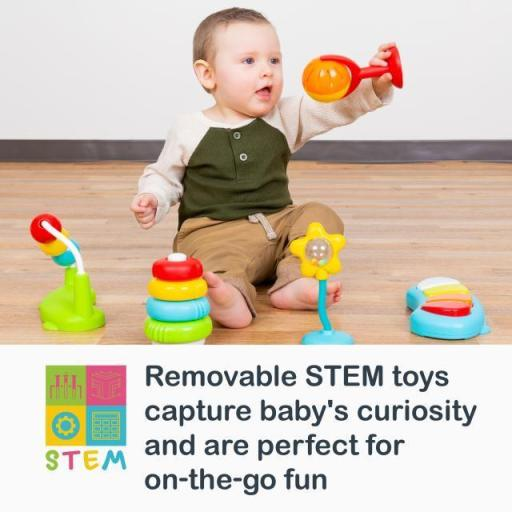baby: (129, 7, 393, 326)
